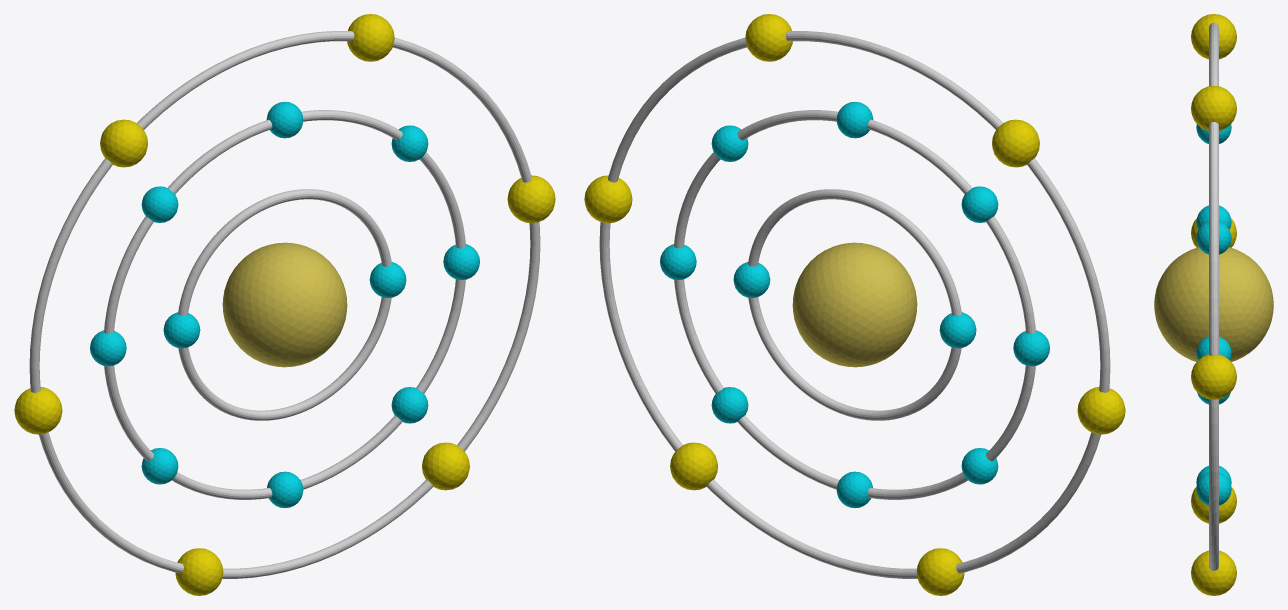
3 renders of one model, left to right at view 1: azimuth 30°, elevation 25°; view 2: azimuth 150°, elevation 25°; view 3: azimuth 270°, elevation 25°, orthographic. The views are drawn at different scales.
Visible parts, largest first — view 1: Camada_3, Nucleo_S, Camada_2, Camada_1, Eletron_Valencia_3, Eletron_Valencia_6, Eletron_Valencia_4, Eletron_Valencia_1, Eletron_Valencia_5, Eletron_Valencia_2, Eletron_C2_4, Eletron_C2_8 (+8 smaller); view 2: Camada_3, Nucleo_S, Camada_2, Camada_1, Eletron_Valencia_3, Eletron_Valencia_6, Eletron_Valencia_4, Eletron_Valencia_1, Eletron_Valencia_5, Eletron_Valencia_2, Eletron_C2_4, Eletron_C2_8 (+8 smaller); view 3: Nucleo_S, Camada_3, Eletron_Valencia_1, Eletron_Valencia_2, Eletron_Valencia_6, Eletron_Valencia_3, Eletron_Valencia_5, Eletron_C2_2, Eletron_C2_8, Eletron_C1_1, Eletron_C2_5, Eletron_C2_3 (+2 smaller).
Part boxes in pixels (x1,y1,x2,y2): Camada_3: (29,31,540,578); Nucleo_S: (222,242,347,367); Camada_2: (104,110,465,499); Camada_1: (178,189,391,420); Eletron_Valencia_3: (100,119,147,167); Eletron_Valencia_6: (422,442,469,490); Eletron_Valencia_4: (14,387,62,434); Eletron_Valencia_1: (507,175,555,223); Eletron_Valencia_5: (175,548,223,595); Eletron_Valencia_2: (347,14,394,61); Eletron_C2_4: (141,186,178,222); Eletron_C2_8: (391,387,428,423); Camada_3: (599,31,1110,578); Nucleo_S: (792,242,917,367); Camada_2: (674,110,1035,499); Camada_1: (748,189,961,420); Eletron_Valencia_3: (992,119,1039,167); Eletron_Valencia_6: (670,442,717,490); Eletron_Valencia_4: (1077,387,1125,434); Eletron_Valencia_1: (584,175,632,223); Eletron_Valencia_5: (916,548,964,595); Eletron_Valencia_2: (745,14,792,61); Eletron_C2_4: (961,186,998,222); Eletron_C2_8: (711,387,748,423); Nucleo_S: (1154,247,1273,361); Camada_3: (1209,22,1218,570); Eletron_Valencia_1: (1191,354,1236,399); Eletron_Valencia_2: (1191,86,1236,130); Eletron_Valencia_6: (1191,550,1236,595); Eletron_Valencia_3: (1191,14,1236,59); Eletron_Valencia_5: (1191,487,1236,523); Eletron_C2_2: (1196,221,1231,254); Eletron_C2_8: (1196,472,1231,505); Eletron_C1_1: (1196,336,1231,359); Eletron_C2_5: (1196,205,1231,229); Eletron_C2_3: (1196,124,1231,143).
Size of the model in its own units: 2.18 by 2.09 by 0.44.
